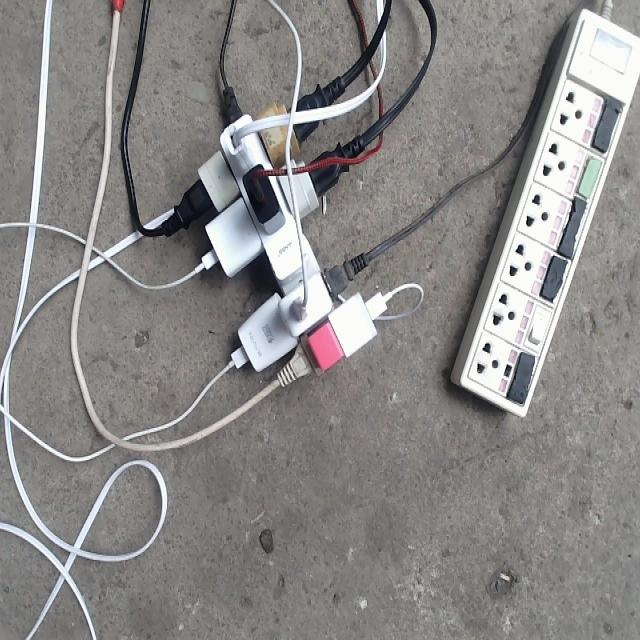-: (115, 49, 434, 416)
